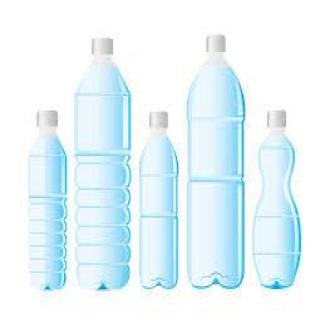Plastic-bottle: (73, 35, 134, 297), (187, 33, 247, 292), (252, 109, 306, 294), (28, 108, 72, 295), (138, 108, 180, 292)
